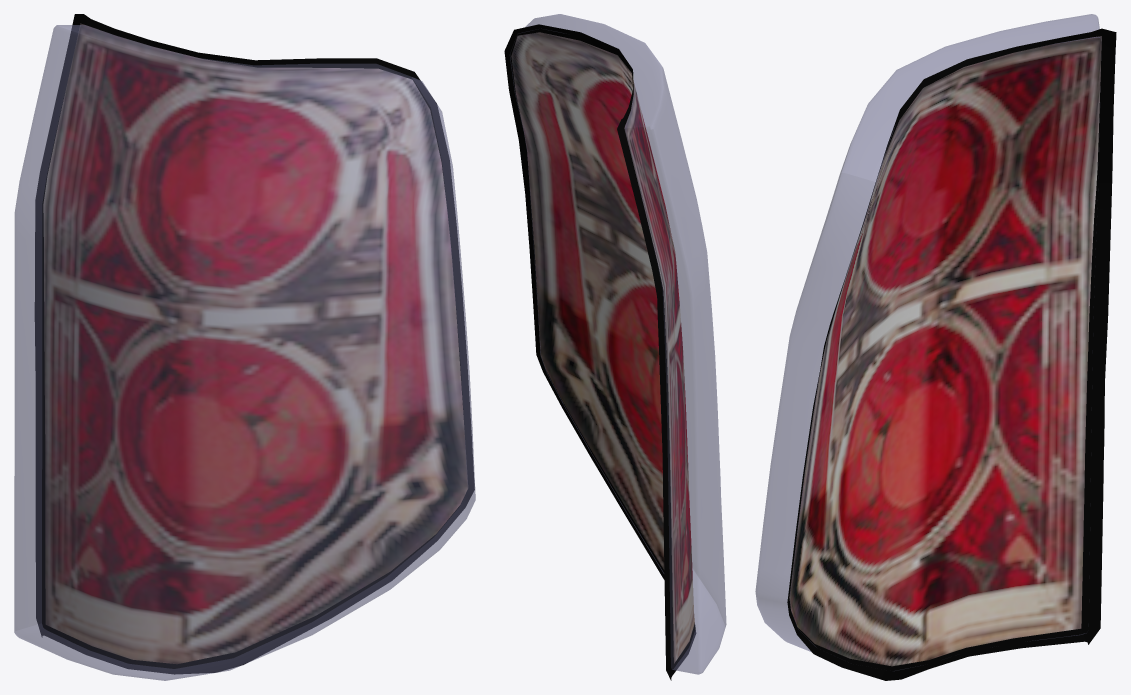
3 renders of one model, left to right at view 1: azimuth 30°, elevation 25°; view 2: azimuth 150°, elevation 25°; view 3: azimuth 270°, elevation 25°, orthographic. The views are drawn at different scales.
Parts seen in each view (by area): view 1: H712_541C_R_H712_541C_R_2_DTaSI, H712_541C_R_H712_541C_R_1_N, H712_541C_R_3_D_H712_541C_R; view 2: H712_541C_R_H712_541C_R_1_N, H712_541C_R_H712_541C_R_2_DTaSI, H712_541C_R_3_D_H712_541C_R; view 3: H712_541C_R_H712_541C_R_1_N, H712_541C_R_H712_541C_R_2_DTaSI, H712_541C_R_3_D_H712_541C_R.
Boxes of the visible parts, x1=… form: H712_541C_R_H712_541C_R_2_DTaSI: x1=14, y1=25, x2=475, y2=680; H712_541C_R_H712_541C_R_1_N: x1=43, y1=23, x2=467, y2=663; H712_541C_R_3_D_H712_541C_R: x1=35, y1=14, x2=474, y2=674; H712_541C_R_H712_541C_R_1_N: x1=511, y1=32, x2=694, y2=663; H712_541C_R_H712_541C_R_2_DTaSI: x1=510, y1=14, x2=726, y2=674; H712_541C_R_3_D_H712_541C_R: x1=504, y1=24, x2=695, y2=680; H712_541C_R_H712_541C_R_1_N: x1=789, y1=36, x2=1101, y2=666; H712_541C_R_H712_541C_R_2_DTaSI: x1=755, y1=14, x2=1100, y2=651; H712_541C_R_3_D_H712_541C_R: x1=787, y1=28, x2=1116, y2=680.
Size of the model in its own units: 20.71 by 37.23 by 18.99.
